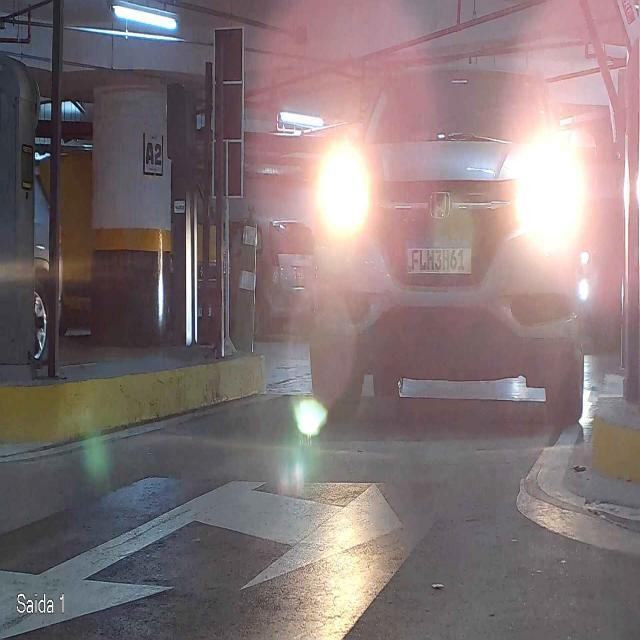mercosul_plate: (404, 238, 474, 276)
